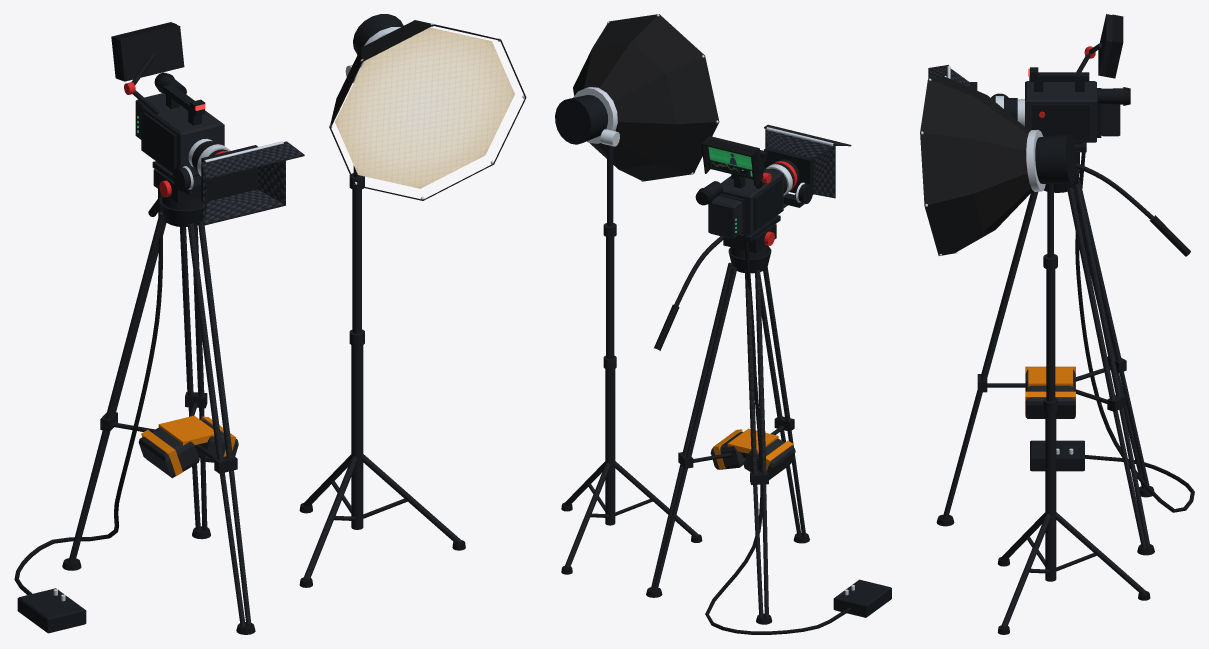
File: Office_Studio_Camera_Softbox_Rig.glb
The picture shows the model from 3 angles, left to right: view 1: azimuth 30°, elevation 25°; view 2: azimuth 150°, elevation 25°; view 3: azimuth 270°, elevation 25°; orthographic projection. The views are drawn at different scales.
Visible parts, largest first — view 1: Softbox_Translucent_Diffuser, Tripod_Carbon_Twin_Tubes, CStand_Legs_Riser, MatteBox_Carbon_Hood, Monitor_7in_Cage, Cinema_Camera_Brain, Softbox_Outer_Ripstop_Hood, Studio_SDI_Power_Cable, SDI_Stagebox_Chassis, MatteBox_Top_French_Flag, Sandbag_Pouch_0, MatteBox_Filter_Stage (+4 smaller); view 2: Softbox_Outer_Ripstop_Hood, Tripod_Carbon_Twin_Tubes, CStand_Legs_Riser, COB_Monolight_Housing, MatteBox_Carbon_Hood, Studio_SDI_Power_Cable, SDI_Stagebox_Chassis, VMount_Battery_Pack, Cinema_Camera_Brain, Side_CheesePlate_0, MatteBox_Filter_Stage, Director_Monitor_Display (+7 smaller); view 3: Softbox_Outer_Ripstop_Hood, Tripod_Carbon_Twin_Tubes, CStand_Legs_Riser, Studio_SDI_Power_Cable, Cinema_Camera_Brain, COB_Monolight_Housing, Side_CheesePlate_1, SDI_Stagebox_Chassis, Sandbag_Pouch_1, Tripod_Clamps_Spreader, Sandbag_Center_Bridge, Softbox_Speedring (+8 smaller).
Boxes of the visible parts, x1=… form: Softbox_Translucent_Diffuser: x1=335, y1=27, x2=514, y2=188; Tripod_Carbon_Twin_Tubes: x1=68, y1=212, x2=251, y2=626; CStand_Legs_Riser: x1=303, y1=165, x2=461, y2=580; MatteBox_Carbon_Hood: x1=203, y1=160, x2=285, y2=225; Monitor_7in_Cage: x1=117, y1=25, x2=184, y2=81; Cinema_Camera_Brain: x1=141, y1=100, x2=224, y2=176; Softbox_Outer_Ripstop_Hood: x1=329, y1=20, x2=526, y2=200; Studio_SDI_Power_Cable: x1=14, y1=189, x2=162, y2=594; SDI_Stagebox_Chassis: x1=17, y1=588, x2=86, y2=633; MatteBox_Top_French_Flag: x1=201, y1=141, x2=304, y2=179; Sandbag_Pouch_0: x1=138, y1=427, x2=199, y2=478; MatteBox_Filter_Stage: x1=201, y1=145, x2=257, y2=201; Softbox_Outer_Ripstop_Hood: x1=573, y1=14, x2=719, y2=181; Tripod_Carbon_Twin_Tubes: x1=651, y1=262, x2=806, y2=617; CStand_Legs_Riser: x1=564, y1=145, x2=698, y2=568; COB_Monolight_Housing: x1=555, y1=95, x2=607, y2=144; MatteBox_Carbon_Hood: x1=765, y1=129, x2=835, y2=198; Studio_SDI_Power_Cable: x1=705, y1=234, x2=851, y2=634; SDI_Stagebox_Chassis: x1=833, y1=579, x2=891, y2=617; VMount_Battery_Pack: x1=708, y1=195, x2=742, y2=238; Cinema_Camera_Brain: x1=721, y1=168, x2=783, y2=235; Side_CheesePlate_0: x1=753, y1=178, x2=782, y2=230; MatteBox_Filter_Stage: x1=764, y1=147, x2=813, y2=194; Director_Monitor_Display: x1=708, y1=146, x2=753, y2=177; Softbox_Outer_Ripstop_Hood: x1=920, y1=76, x2=1032, y2=255; Tripod_Carbon_Twin_Tubes: x1=943, y1=177, x2=1150, y2=548; CStand_Legs_Riser: x1=1001, y1=184, x2=1146, y2=627; Studio_SDI_Power_Cable: x1=1075, y1=152, x2=1194, y2=512; Cinema_Camera_Brain: x1=1025, y1=81, x2=1096, y2=142; COB_Monolight_Housing: x1=1035, y1=133, x2=1076, y2=184; Side_CheesePlate_1: x1=1032, y1=104, x2=1089, y2=140; SDI_Stagebox_Chassis: x1=1030, y1=440, x2=1084, y2=471; Sandbag_Pouch_1: x1=1025, y1=381, x2=1075, y2=418; Tripod_Clamps_Spreader: x1=977, y1=356, x2=1126, y2=411; Sandbag_Center_Bridge: x1=1028, y1=367, x2=1072, y2=386; Softbox_Speedring: x1=1026, y1=129, x2=1045, y2=191.
Size of the model in its own units: 1.3 by 1.68 by 0.7996.
16 materials, 5 textured.
